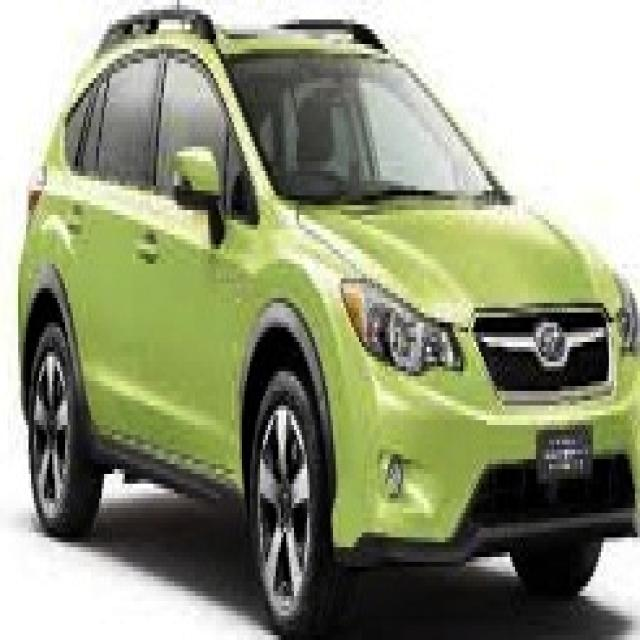green: (18, 13, 633, 632)
